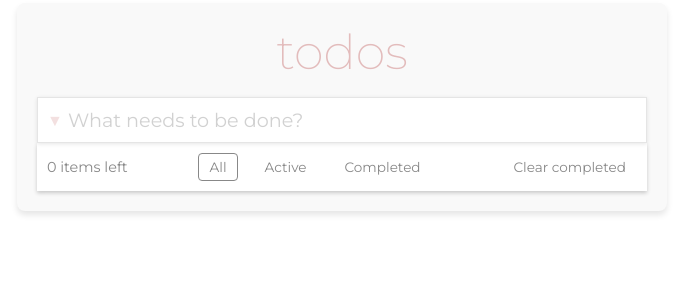
Test case: Todo App › filters todos
Type "Active Todo" into the field with placeholder "What needs to be done?".
click(342, 120); type("Active Todo")  # box [37,97,647,143]
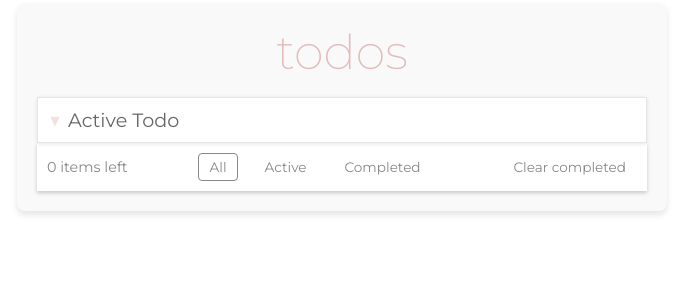
Submit the form from the field with placeholder "What needs to be done?", box [37,97,647,143]
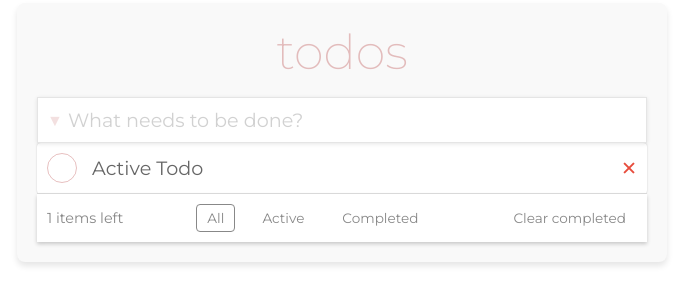
Click the checkbox.
click(62, 168)  # box [47,153,77,183]
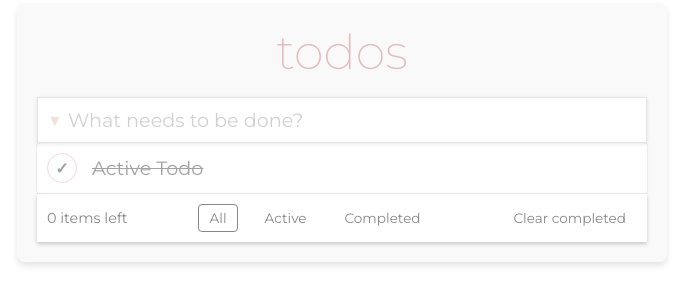
Click the button "Active".
click(286, 218)  # box [254,204,318,232]
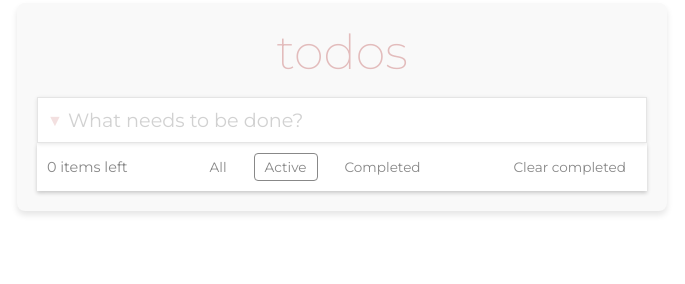
expect the text "Active Todo" is gone: met
Click the button "Completed".
click(382, 167)  # box [334,153,432,181]
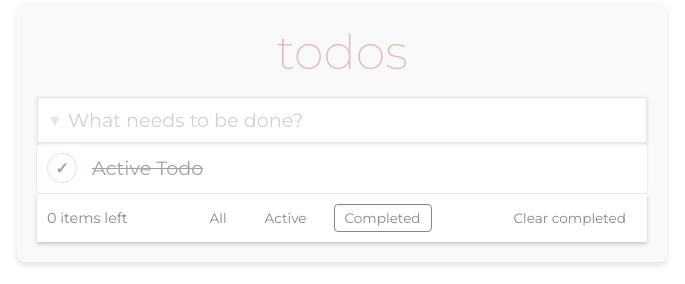
expect the text "Active Todo" is shown: met, box [92,156,203,180]
